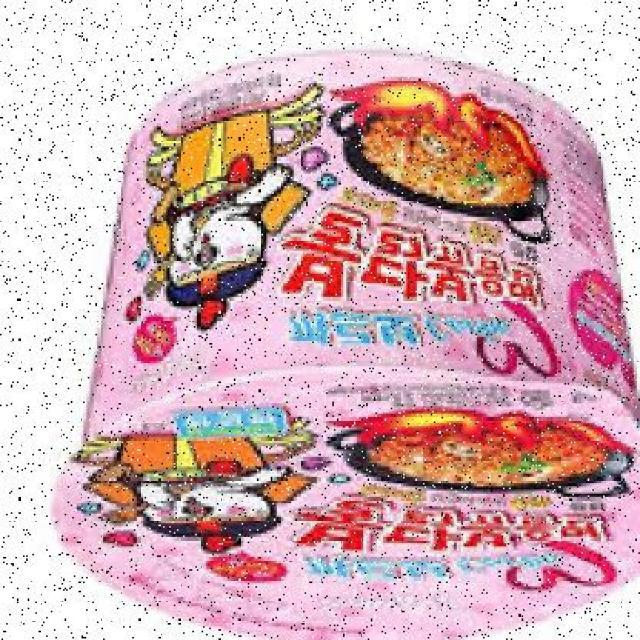Miscellaneous: (49, 43, 640, 640)
